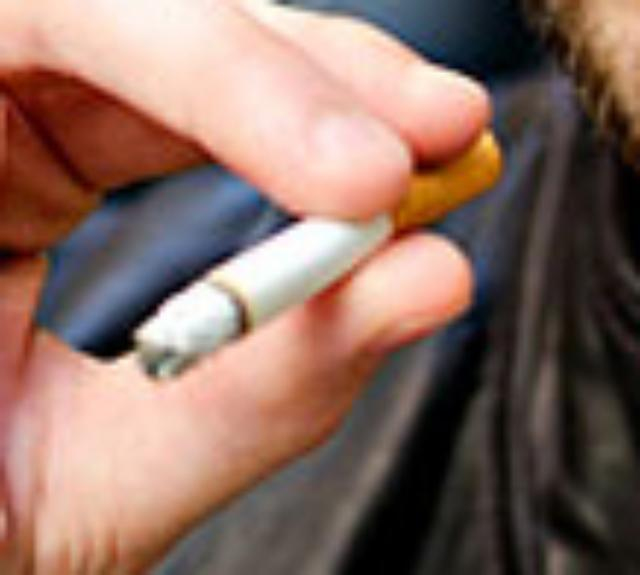Smoking: (123, 117, 504, 387)
